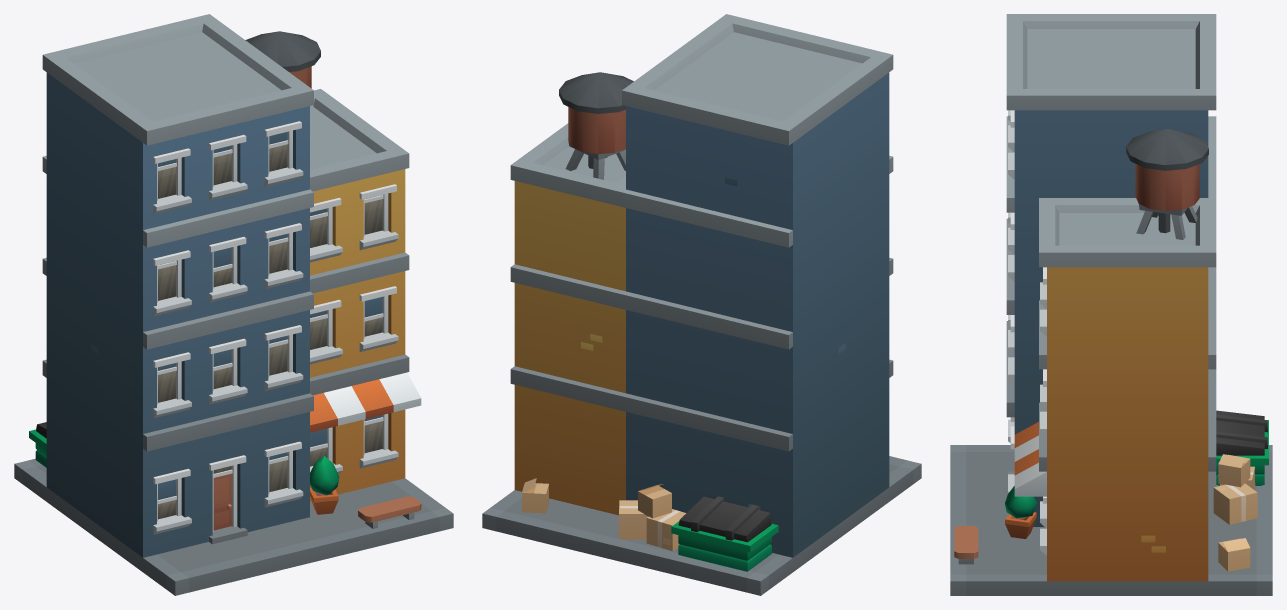
The model's file is Building-2.glb.
The picture shows the model from 3 angles, left to right: view 1: azimuth 30°, elevation 25°; view 2: azimuth 150°, elevation 25°; view 3: azimuth 270°, elevation 25°; orthographic projection.
Parts seen in each view (by area): view 1: building_H; view 2: building_H; view 3: building_H.
Part boxes in pixels (bbox=[...]): building_H: bbox=[14, 14, 453, 595]; building_H: bbox=[482, 14, 921, 595]; building_H: bbox=[950, 14, 1272, 595].
Size of the model in its own units: 2.01 by 3.05 by 2.
1 material, 1 textured.
